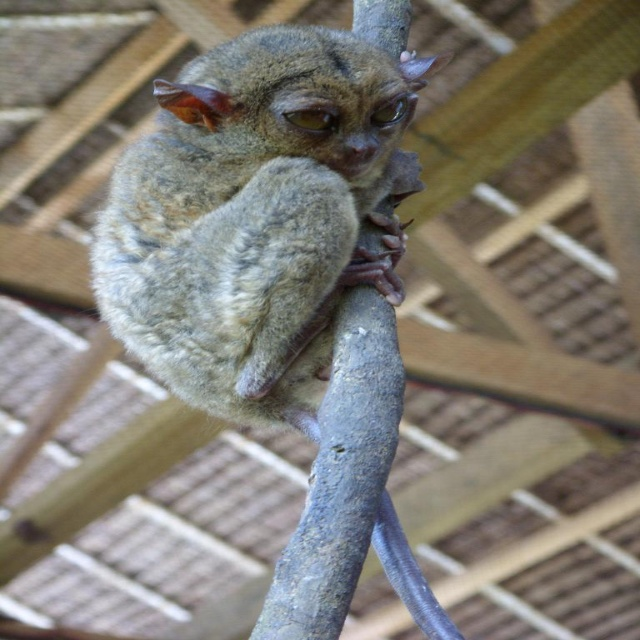Monkey: (68, 14, 479, 623)
